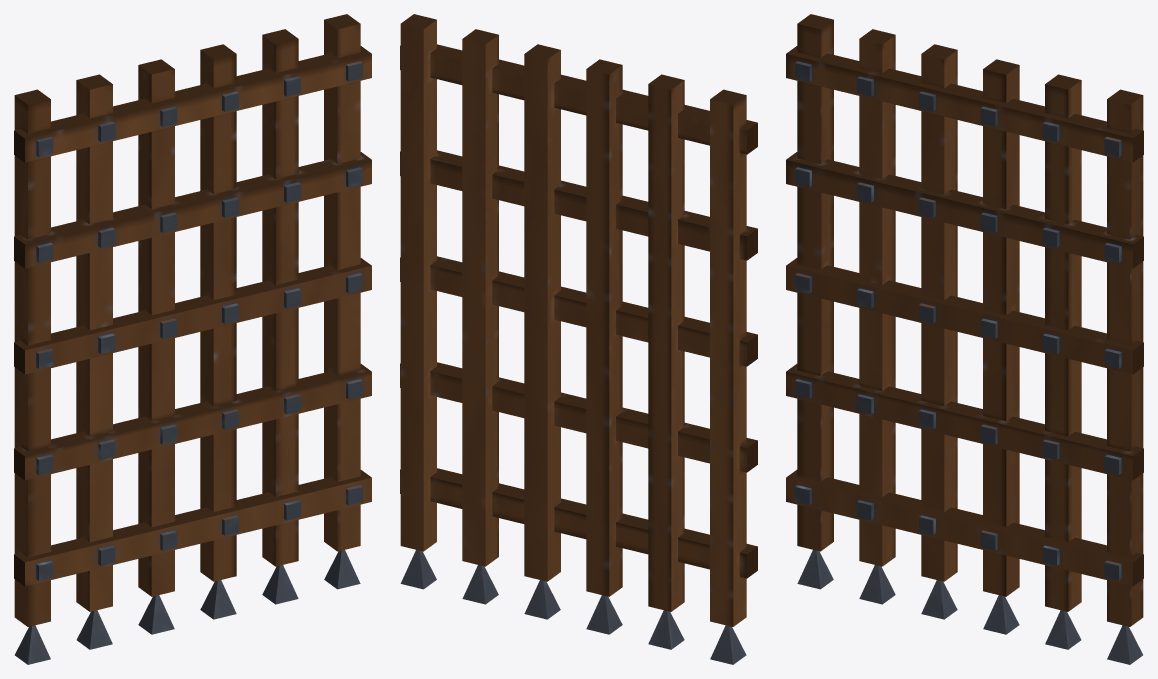
Rendered from Kit_Gate_Portcullis.fbx.
3 renders of one model, left to right at view 1: azimuth 30°, elevation 25°; view 2: azimuth 150°, elevation 25°; view 3: azimuth 330°, elevation 25°, orthographic.
Parts seen in each view (by area): view 1: Kit_Gate_Portcullis_LOD0; view 2: Kit_Gate_Portcullis_LOD0; view 3: Kit_Gate_Portcullis_LOD0.
Boxes of the visible parts, left/top/right/bottom form: Kit_Gate_Portcullis_LOD0: left=14, top=14, right=371, bottom=664; Kit_Gate_Portcullis_LOD0: left=400, top=14, right=757, bottom=664; Kit_Gate_Portcullis_LOD0: left=786, top=14, right=1143, bottom=664.
Size of what is drawn, in the model's own units: 2.4 by 3.7 by 0.24.
Materials: 1 (1 with a texture image).
